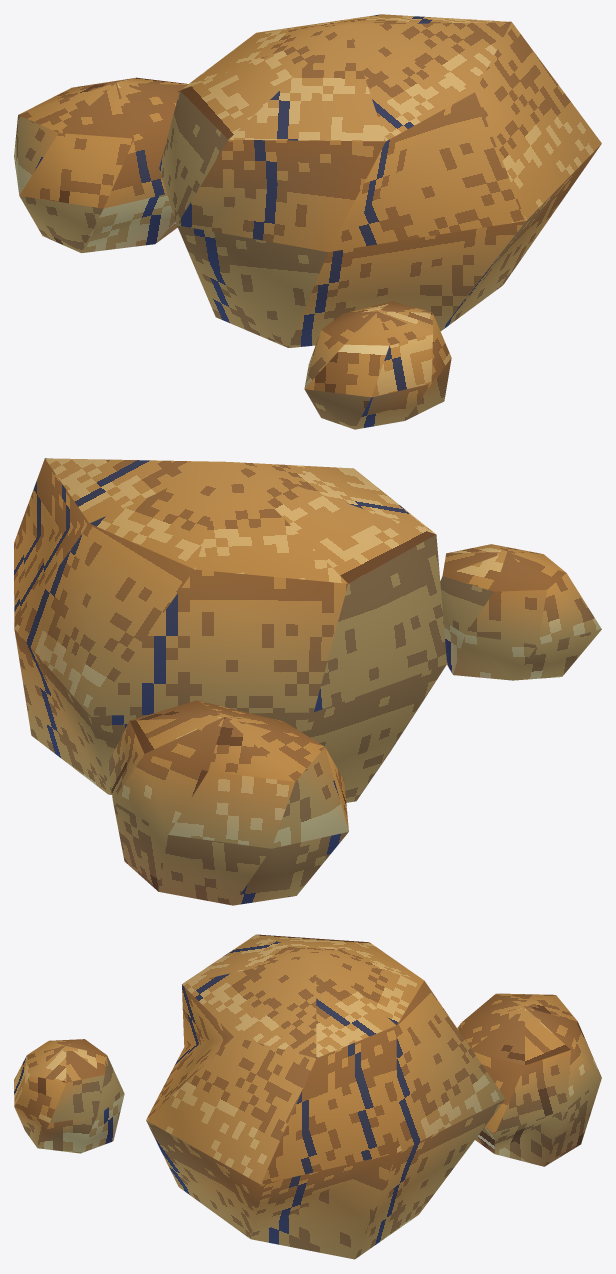
File: wland.boulder.glb
The picture shows the model from 3 angles, top to bottom: view 1: azimuth 30°, elevation 25°; view 2: azimuth 150°, elevation 25°; view 3: azimuth 270°, elevation 25°; orthographic projection. The views are drawn at different scales.
Visible parts, largest first — view 1: kit_rocks; view 2: kit_rocks; view 3: kit_rocks.
Part boxes in pixels (x1,y1,x2,y2): kit_rocks: [14, 14, 601, 429]; kit_rocks: [14, 458, 601, 905]; kit_rocks: [14, 934, 601, 1259].
Size of the model in its own units: 2.97 by 1.72 by 3.85.
1 material, 1 textured.
